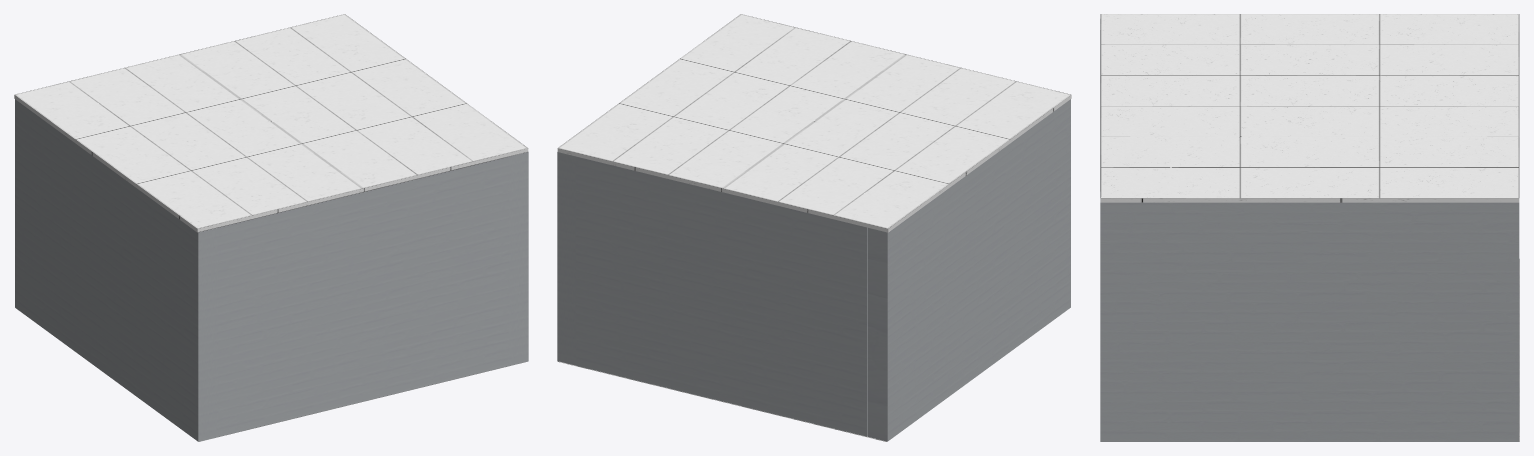
Rendered from Reactor_room_only.glb.
3 views of the same model, side by side, from view 1: azimuth 30°, elevation 25°; view 2: azimuth 150°, elevation 25°; view 3: azimuth 270°, elevation 25° (orthographic). The views are drawn at different scales.
Visible parts, largest first — view 1: walls, ceiling; view 2: walls, ceiling; view 3: walls, ceiling.
Boxes of the visible parts, box(x1,y1,x2,y2) form: walls: box(15, 99, 528, 441); ceiling: box(14, 14, 528, 232); walls: box(557, 99, 1070, 441); ceiling: box(557, 14, 1071, 232); walls: box(1100, 19, 1519, 441); ceiling: box(1100, 14, 1519, 202).
Size of the model in its own units: 9.99 by 6.16 by 9.6.
3 materials, 3 textured.
